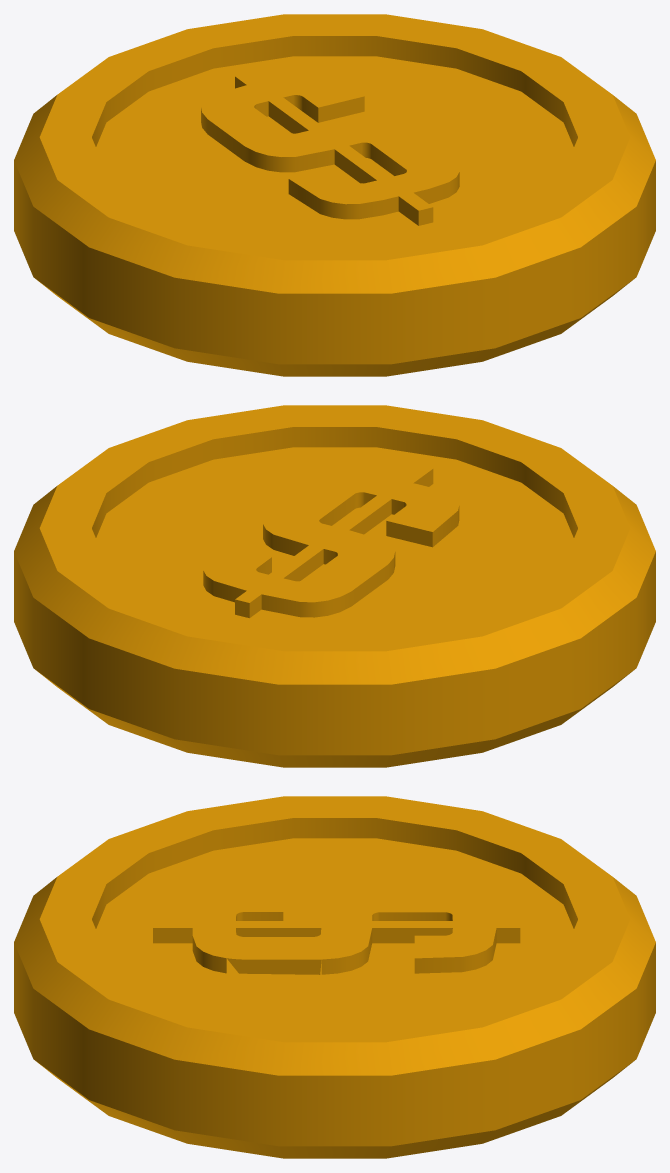
File: coin_new.glb
3 renders of one model, top to bottom at view 1: azimuth 30°, elevation 25°; view 2: azimuth 150°, elevation 25°; view 3: azimuth 270°, elevation 25°, orthographic.
Visible parts, largest first — view 1: Coin_New; view 2: Coin_New; view 3: Coin_New.
Part boxes in pixels (bbox=[...]): Coin_New: bbox=[14, 14, 655, 376]; Coin_New: bbox=[14, 405, 655, 767]; Coin_New: bbox=[14, 796, 655, 1158].
Size of the model in its own units: 1.97 by 0.4 by 2.
